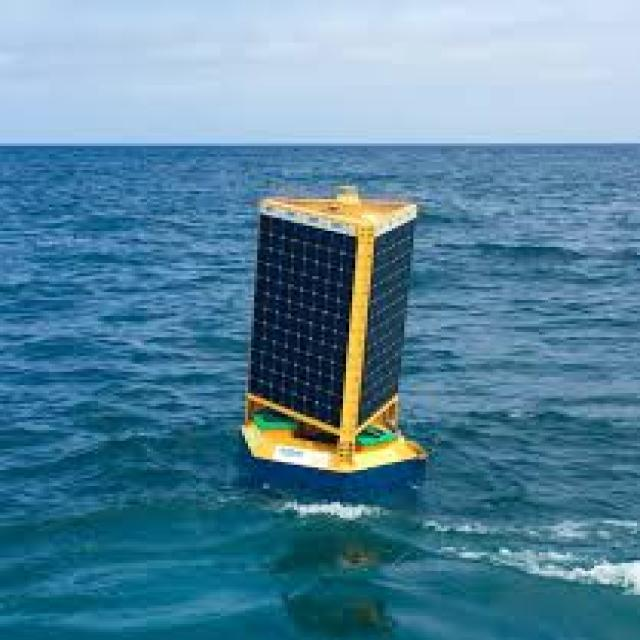2.5 sepcial mark: (202, 159, 449, 479)
